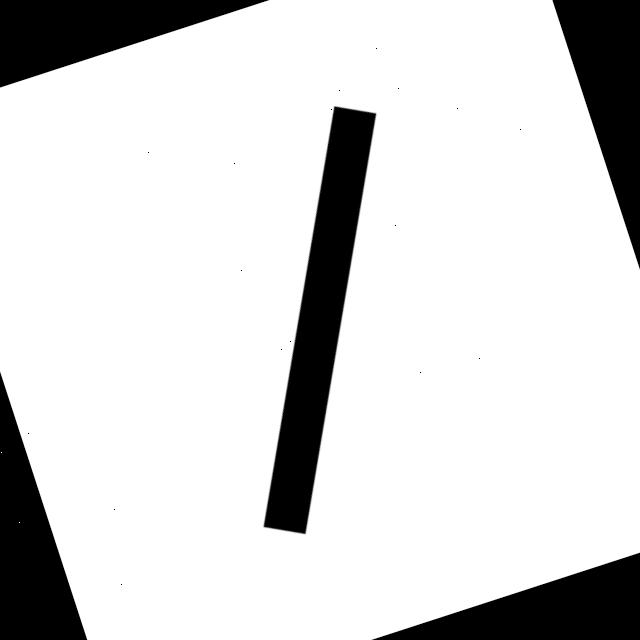line: (263, 106, 376, 534)
